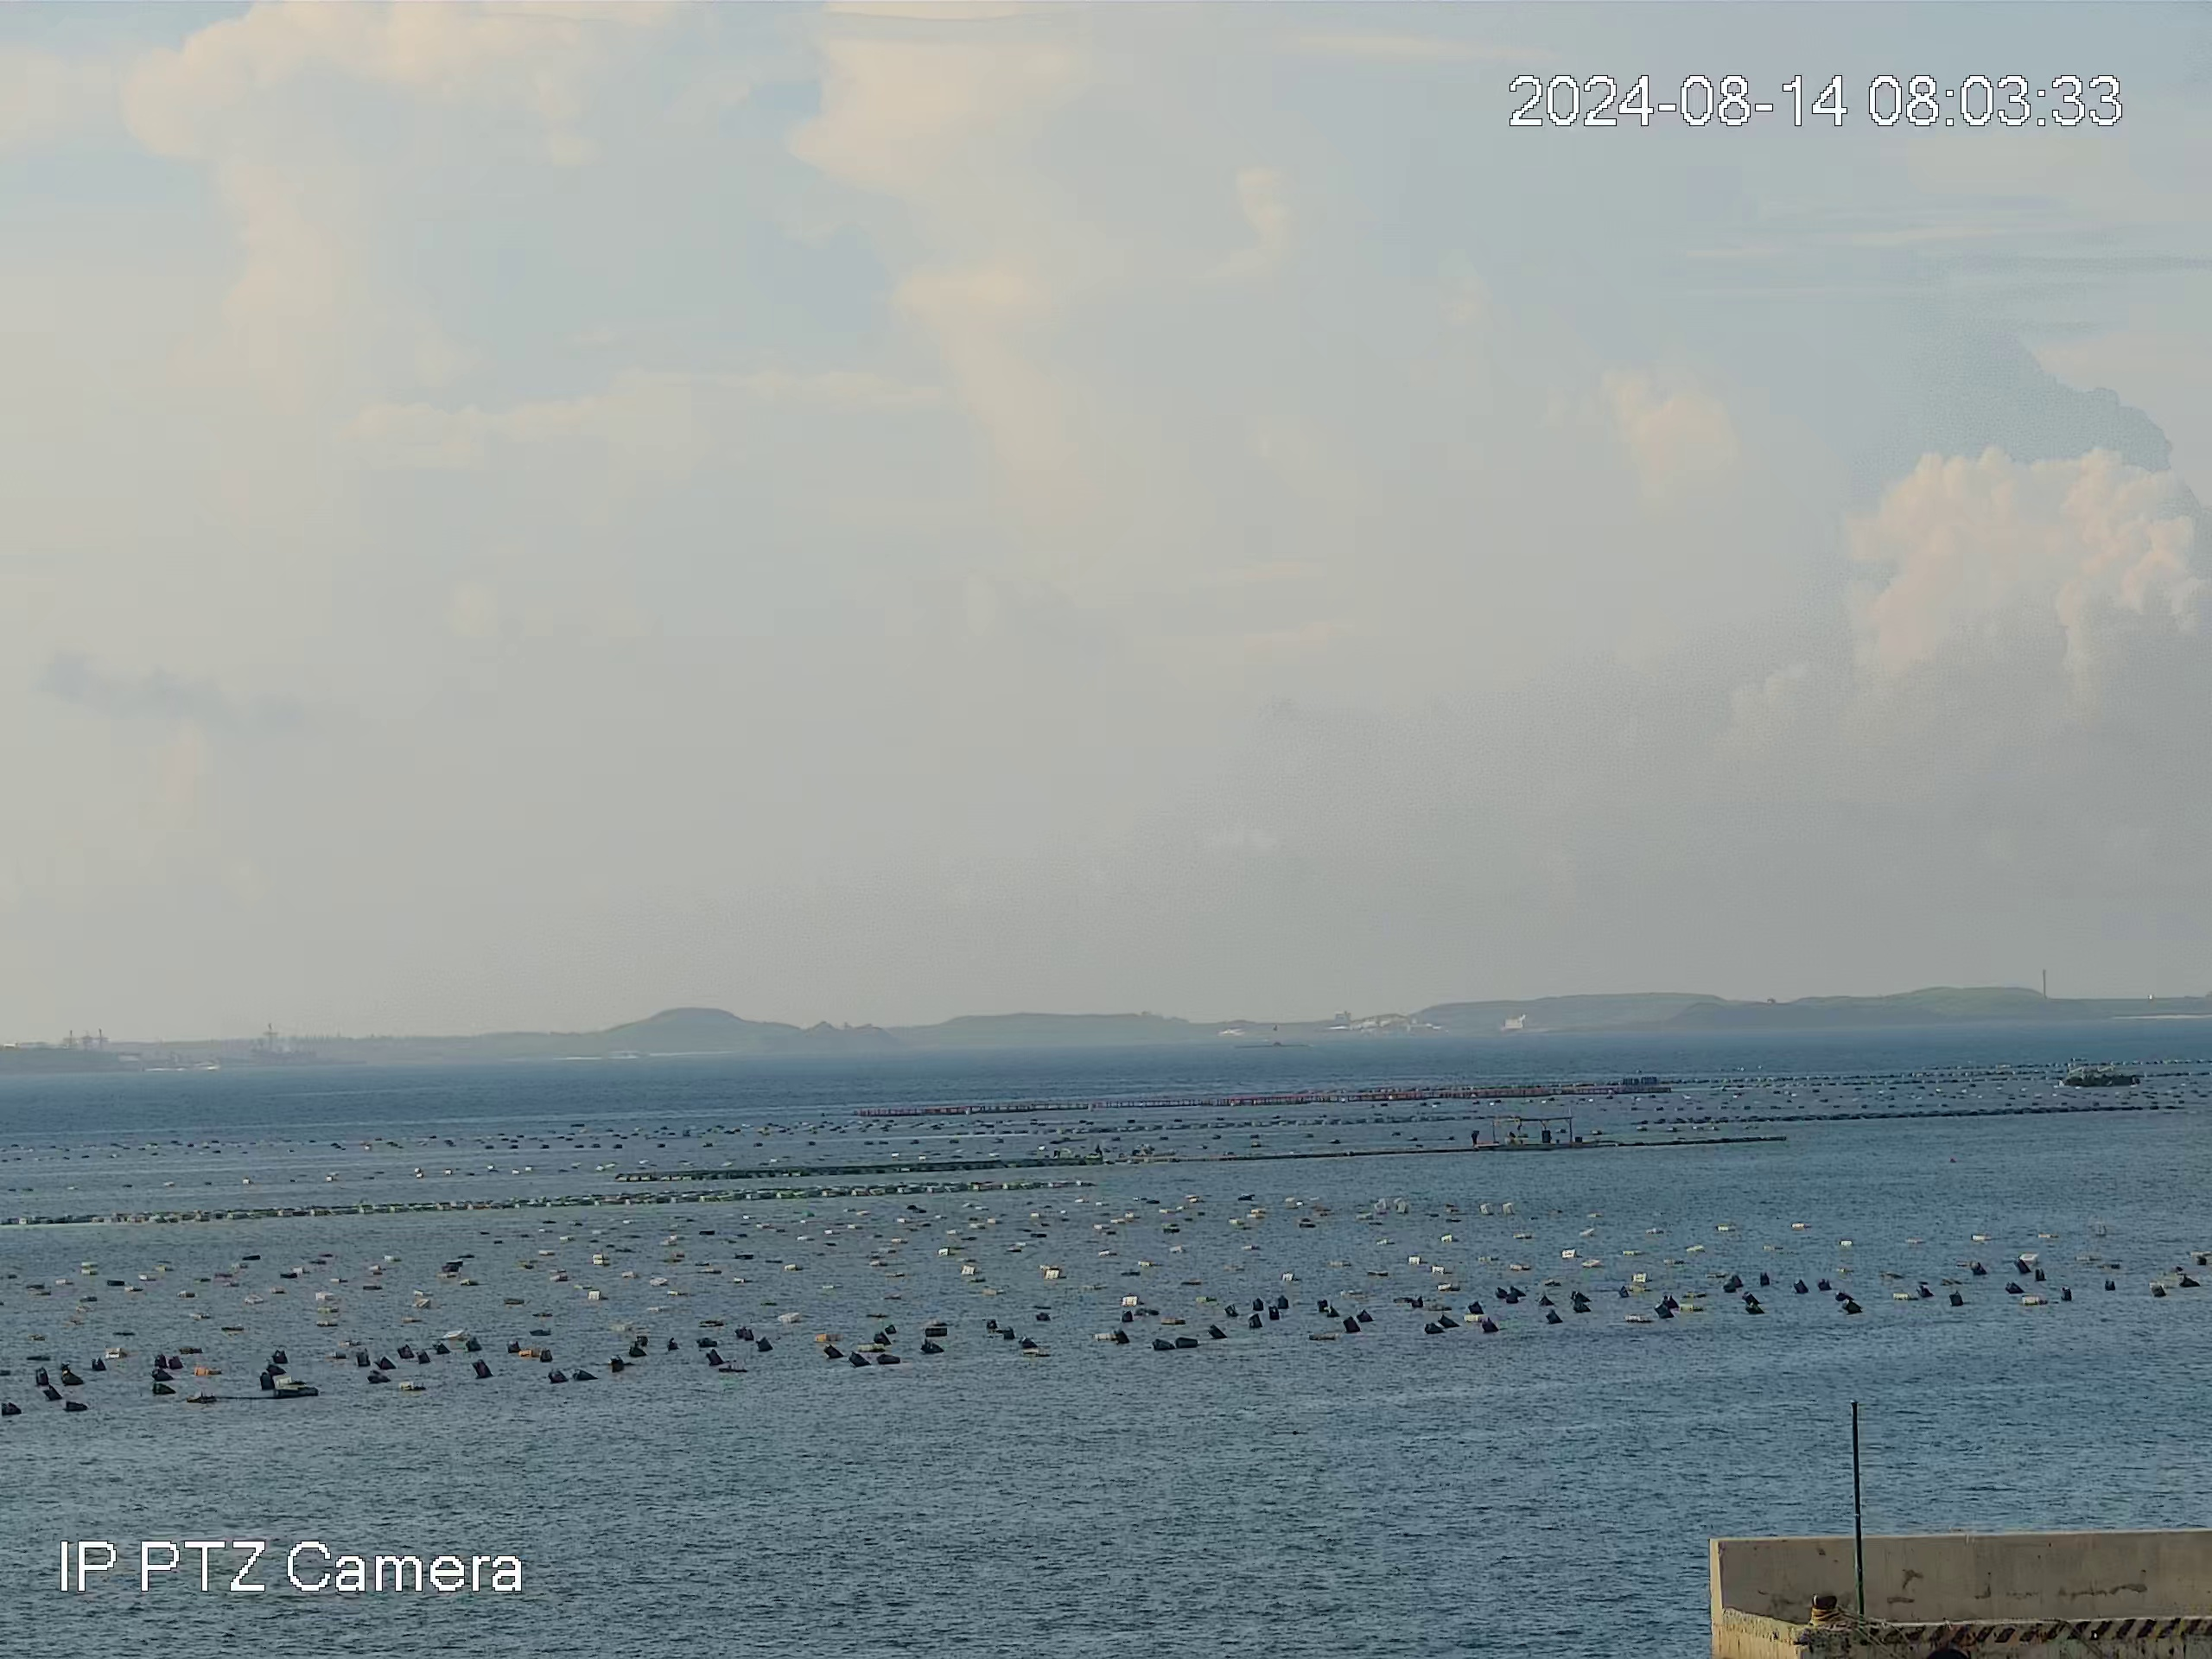boat: (1475, 1103, 1603, 1152), (2061, 1059, 2152, 1091)
